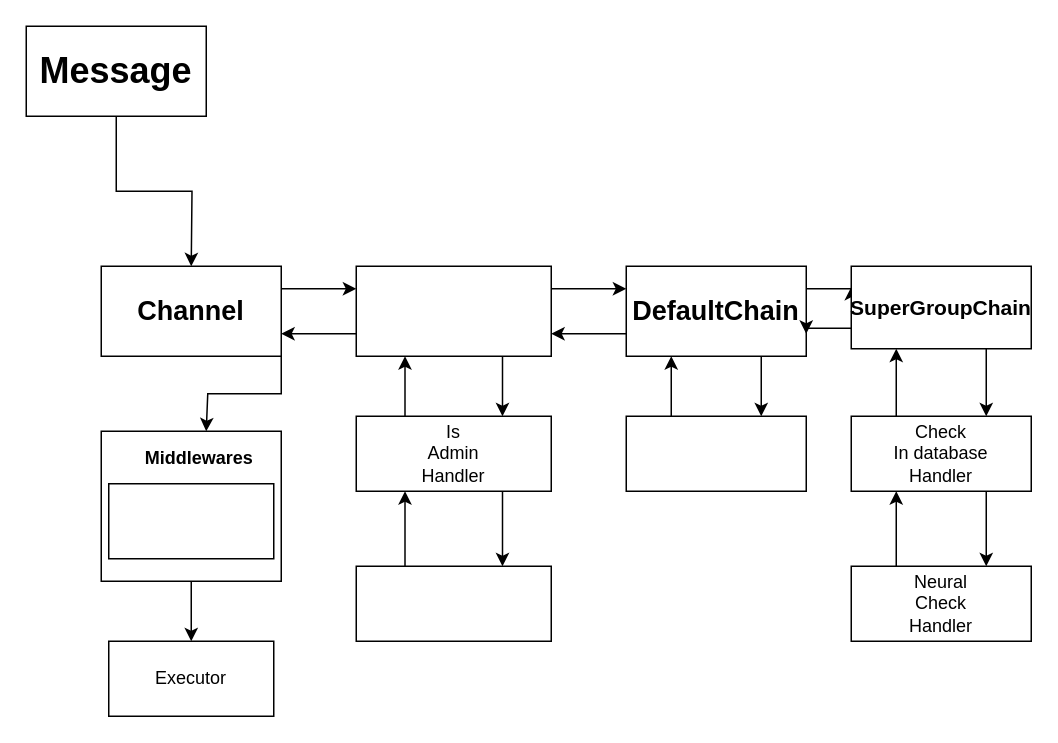
The diagram is 1058 pixels wide and 743 high, and some of its shapes have lost their labels. Here are the shapes that lost their labels. From the top down, the centre of each, then its label:
the point at 453,310: IgnoreChain
the point at 715,453: Check Banwords Handler
the point at 190,520: Message To database Middleware
the point at 453,603: Is Join Message
